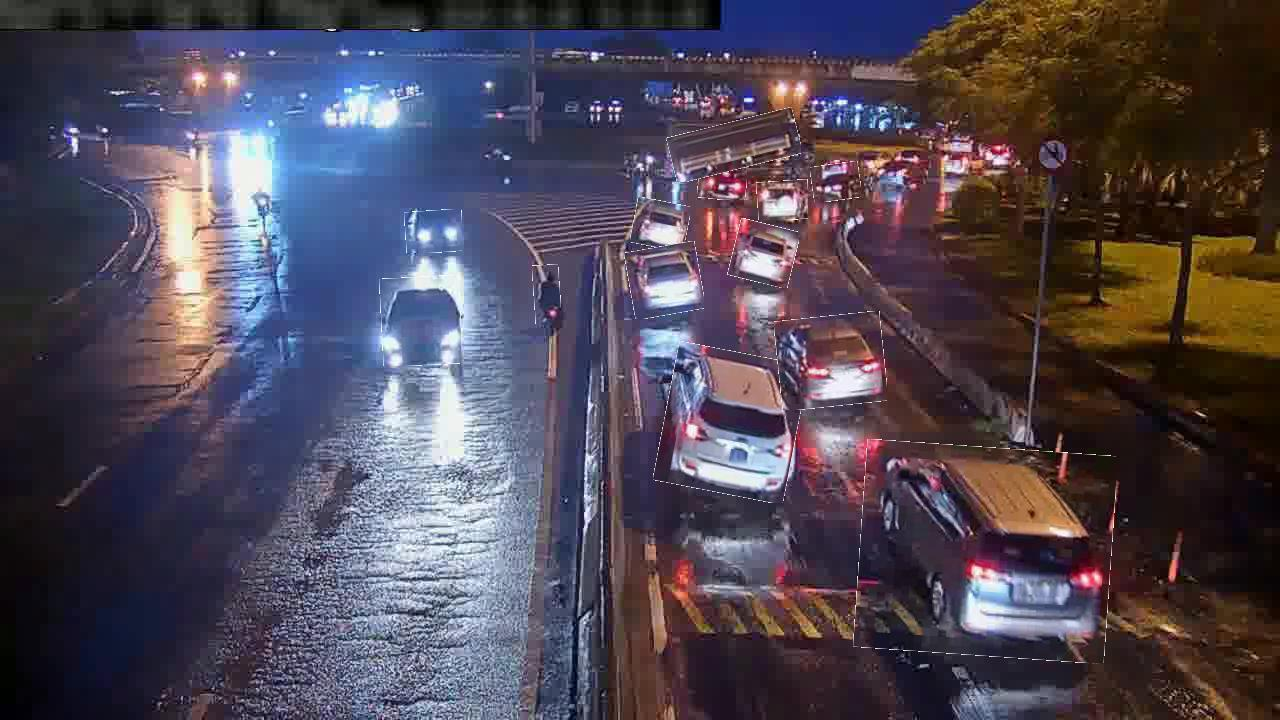8: (668, 115, 801, 176)
container: (857, 444, 1114, 660), (659, 347, 803, 499), (776, 314, 886, 409), (380, 276, 461, 366), (627, 244, 703, 318), (730, 222, 797, 286), (632, 200, 690, 250), (405, 210, 463, 254), (757, 180, 809, 221), (811, 162, 861, 202), (698, 163, 748, 200)
motorbike: (533, 265, 561, 326)
